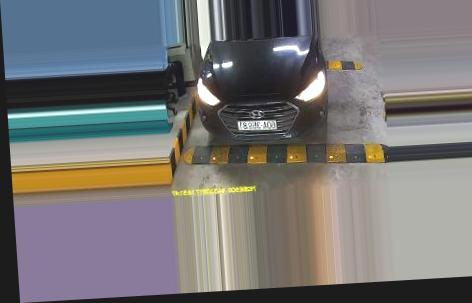License_Plate: (235, 119, 278, 133)
